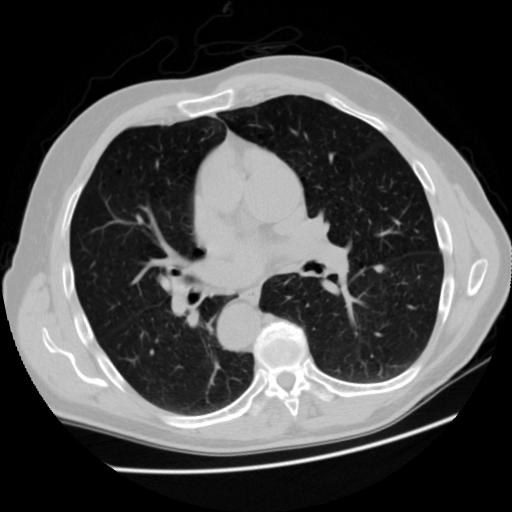nodule: (373, 259, 391, 277)
